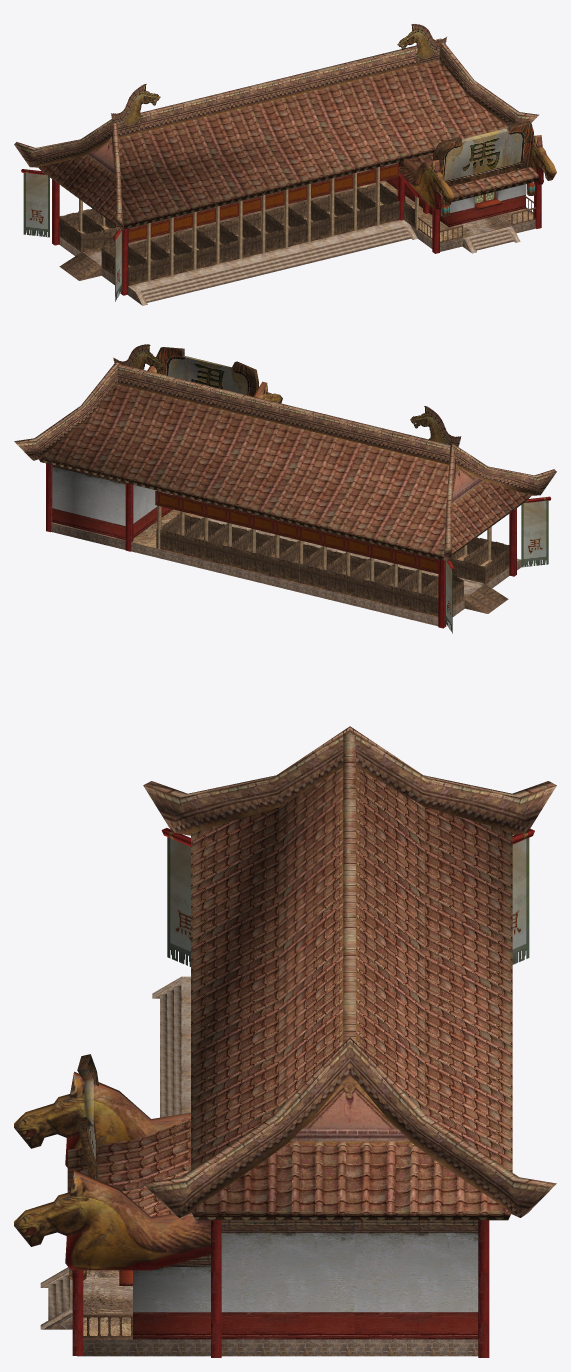
The model's file is cj_stab.glb.
3 views of the same model, one above another, from view 1: azimuth 30°, elevation 25°; view 2: azimuth 150°, elevation 25°; view 3: azimuth 270°, elevation 25° (orthographic). The views are drawn at different scales.
Visible parts, largest first — view 1: CJ_stab_roof, CJ_stab_sign, CJ_stab_gidung, CJ_stab_roof01, CJ_stab_floor, CJ_stab_flag, CJ_stab_window; view 2: CJ_stab_roof, CJ_stab_sign, CJ_stab_gidung, CJ_stab_roof01, CJ_stab_flag, CJ_stab_floor; view 3: CJ_stab_roof, CJ_stab_gidung, CJ_stab_flag, CJ_stab_floor, CJ_stab_sign.
Part boxes in pixels (left/top/right/bottom): CJ_stab_roof: left=14, top=38, right=538, bottom=305; CJ_stab_sign: left=59, top=24, right=535, bottom=285; CJ_stab_gidung: left=21, top=135, right=556, bottom=305; CJ_stab_roof01: left=128, top=163, right=398, bottom=242; CJ_stab_floor: left=77, top=169, right=534, bottom=266; CJ_stab_flag: left=23, top=172, right=122, bottom=301; CJ_stab_window: left=440, top=182, right=535, bottom=216; CJ_stab_roof: left=14, top=362, right=556, bottom=561; CJ_stab_sign: left=113, top=344, right=509, bottom=616; CJ_stab_gidung: left=46, top=366, right=551, bottom=628; CJ_stab_roof01: left=155, top=490, right=438, bottom=573; CJ_stab_flag: left=445, top=500, right=548, bottom=633; CJ_stab_floor: left=52, top=498, right=491, bottom=616; CJ_stab_roof: left=40, top=726, right=556, bottom=1329; CJ_stab_gidung: left=14, top=828, right=534, bottom=1357; CJ_stab_flag: left=167, top=837, right=529, bottom=966; CJ_stab_floor: left=83, top=1270, right=132, bottom=1339; CJ_stab_sign: left=77, top=1054, right=132, bottom=1338.
Size of the model in its own units: 46.43 by 18.38 by 26.17.
Materials: 8 (8 with a texture image).
